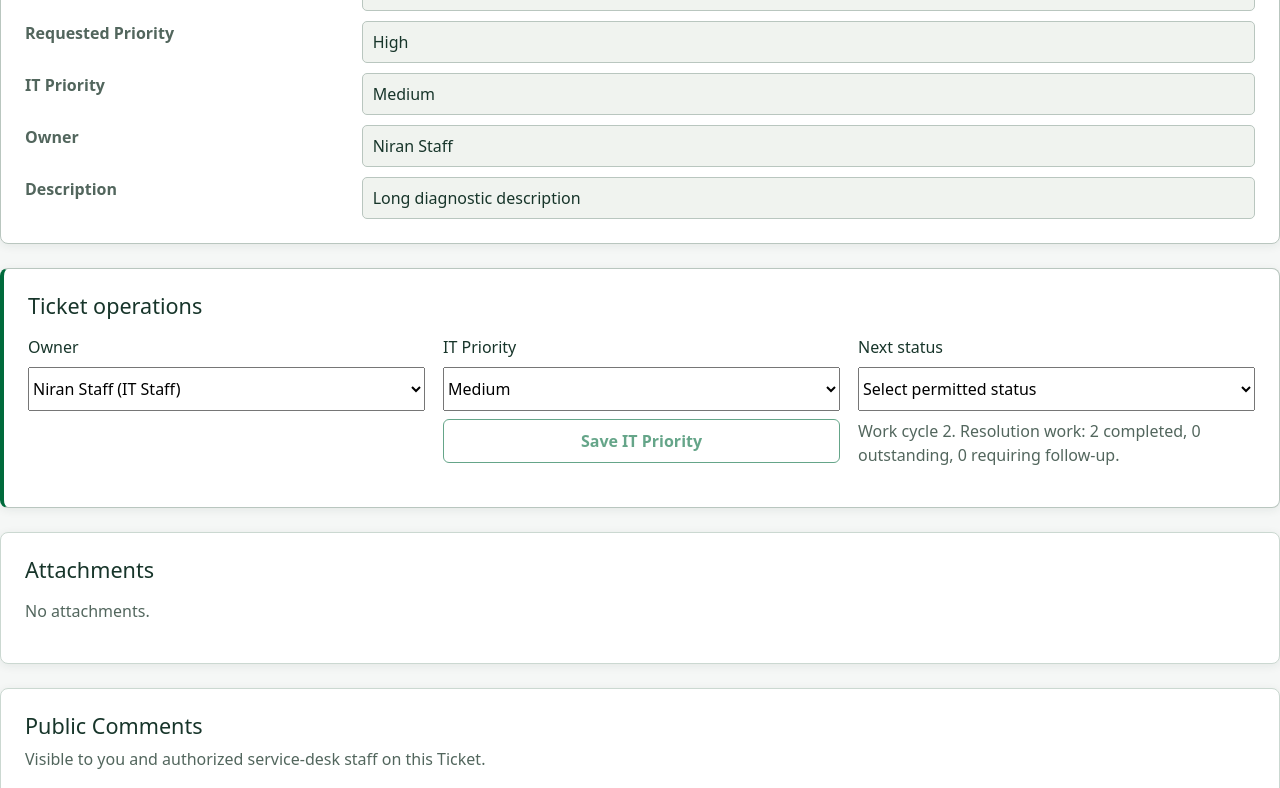
Scenario: UI-03 backend-authoritative Ticket workflow feedback › submits RESOLVED only when the server advertises it and uses the current parent version
The width and height of the screenshot is (1280, 788).
(page scrolled)
Step 1. Select "Resolved" in the dropdown labelled "Next status" → (1056, 389), box [858,367,1255,411]
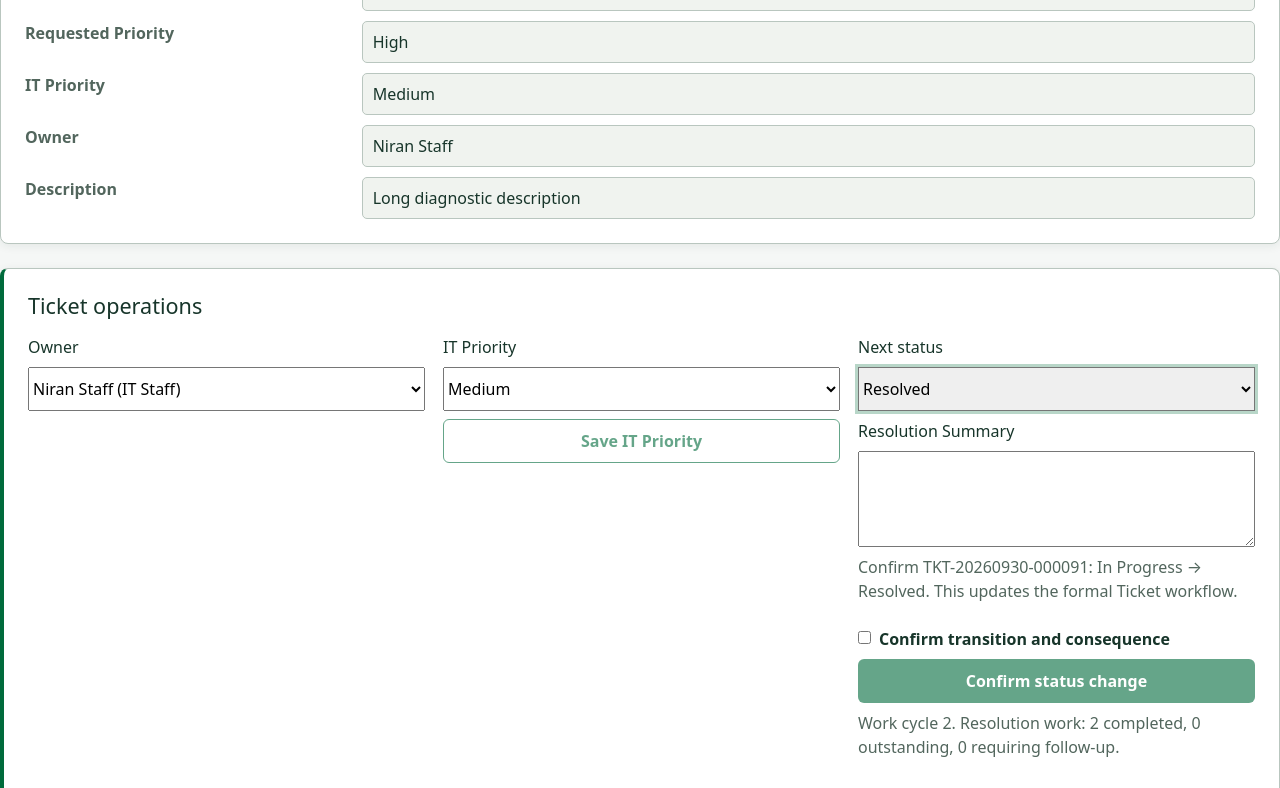
Step 2. Type "Verified current-cycle work restored access" into the text box labelled "Resolution Summary" → (1056, 499), box [858,451,1255,547]
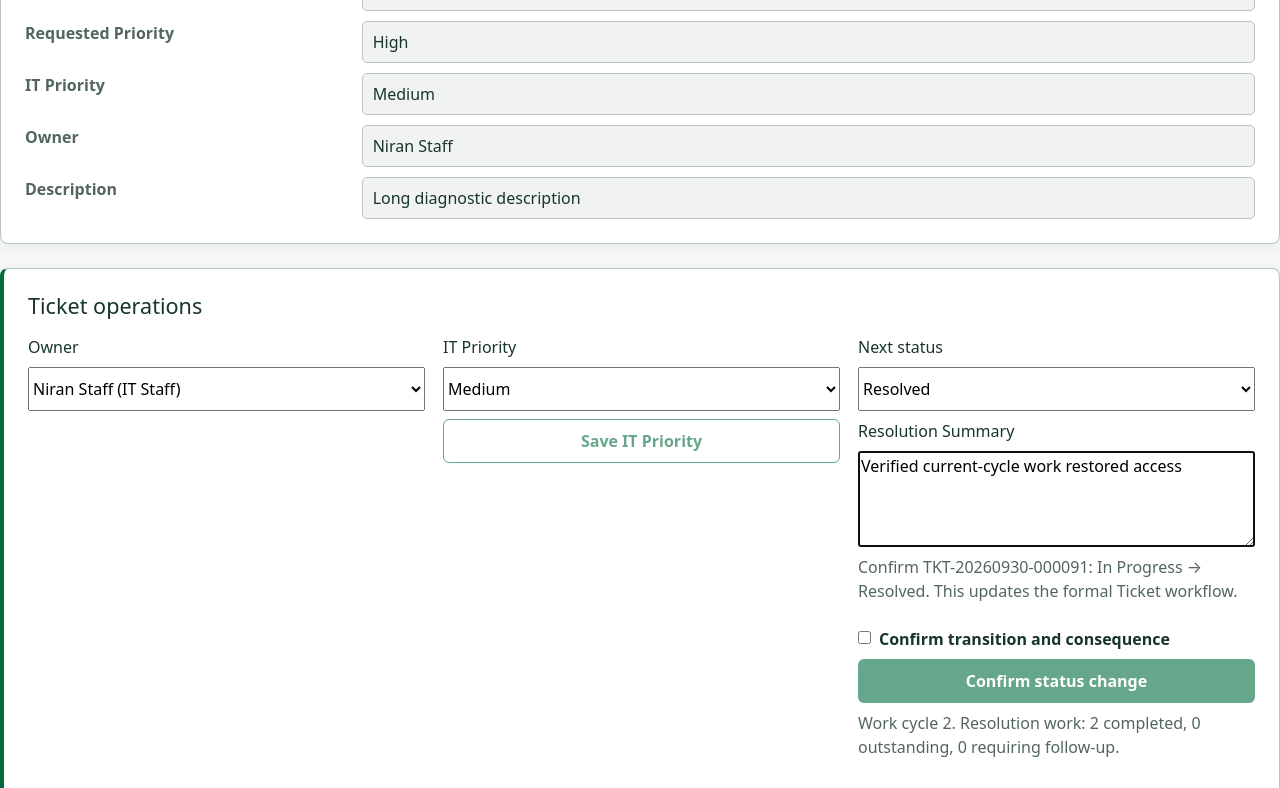
Step 3. Click the checkbox labelled "Confirm transition and consequence" → (864, 637), box [858,631,871,644]
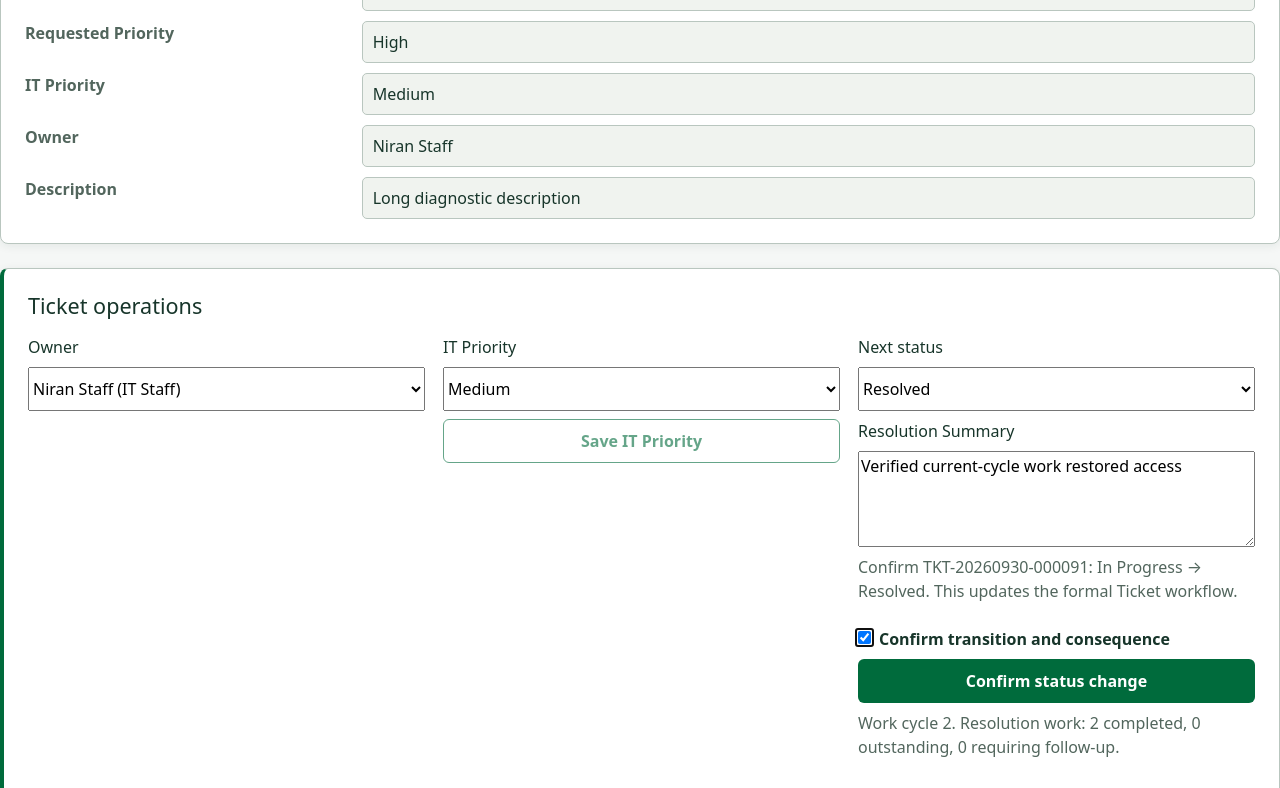
Step 4. Click the button "Confirm status change" → (1056, 681), box [858,659,1255,703]
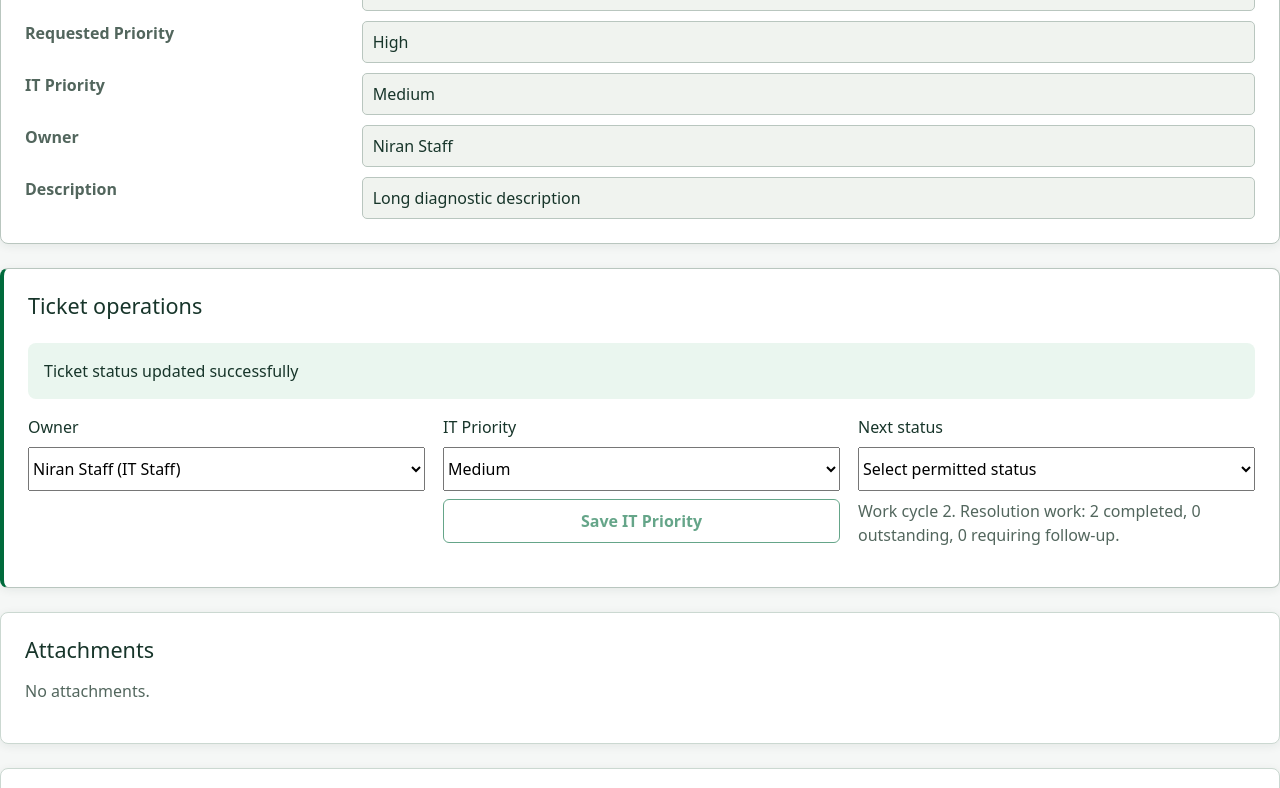
Check: the label "Resolution Summary" is gone
Check: the label "Confirm transition" is gone
